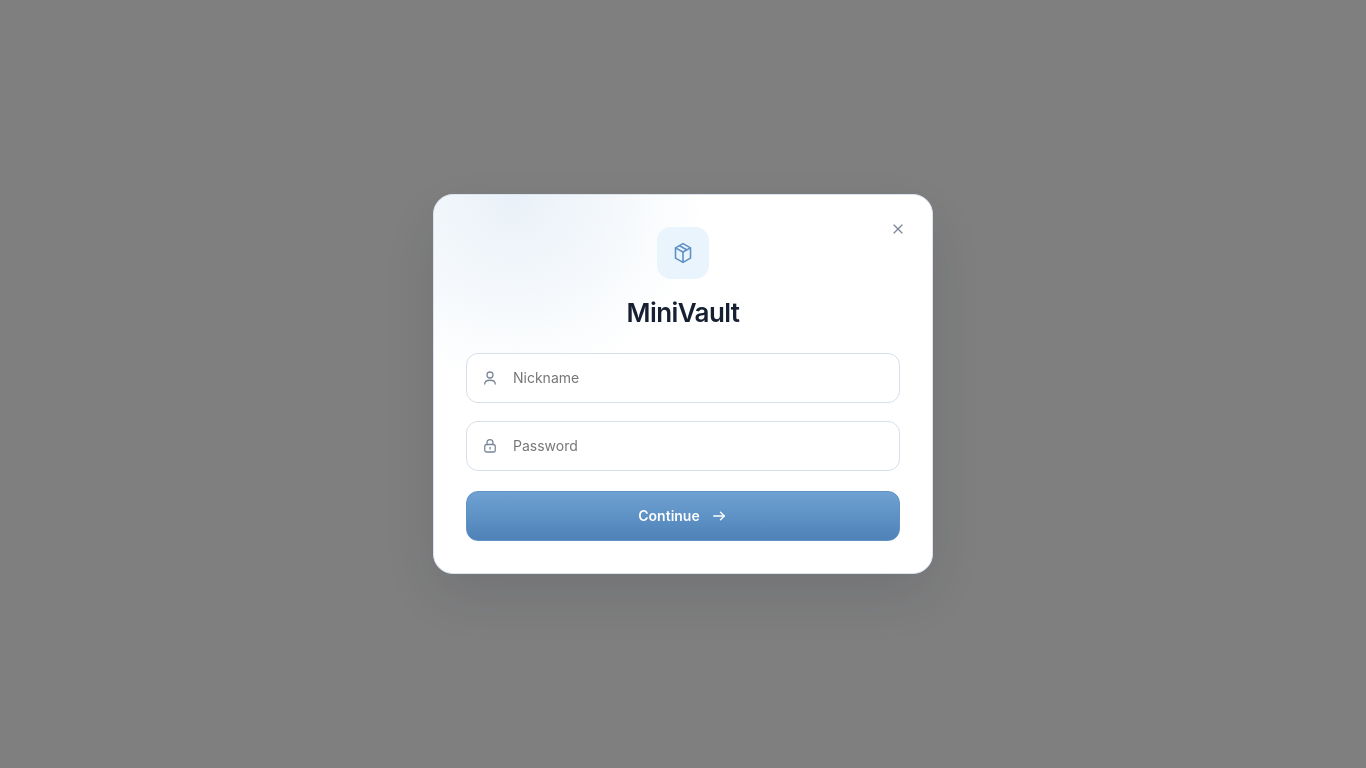
it: LoginModal › shows server error when login fails
This screenshot has width=1366, height=768.
In the field with placeholder "Nickname": (706, 378) 513,354 -> 899,402, type "wayne"
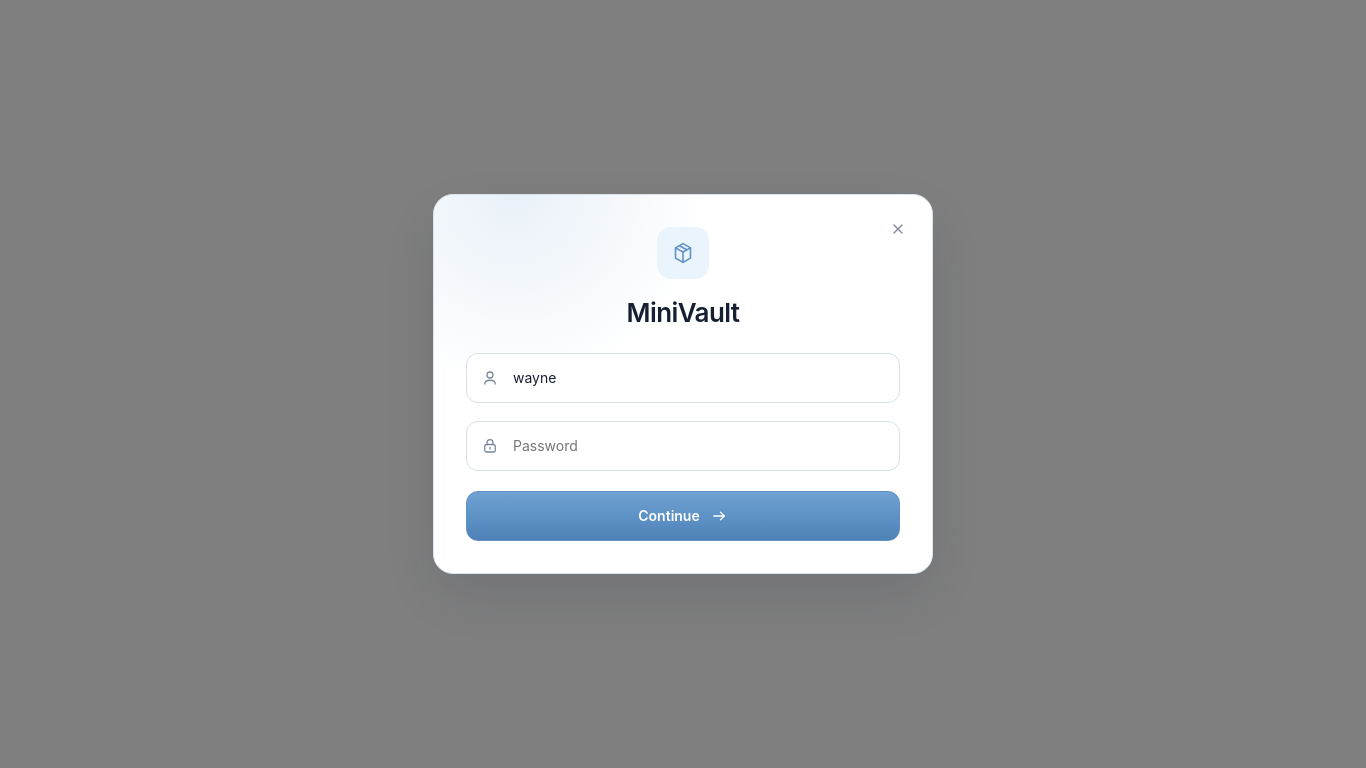
In the password field with placeholder "Password": (706, 446) 513,422 -> 899,470, type "wrong"
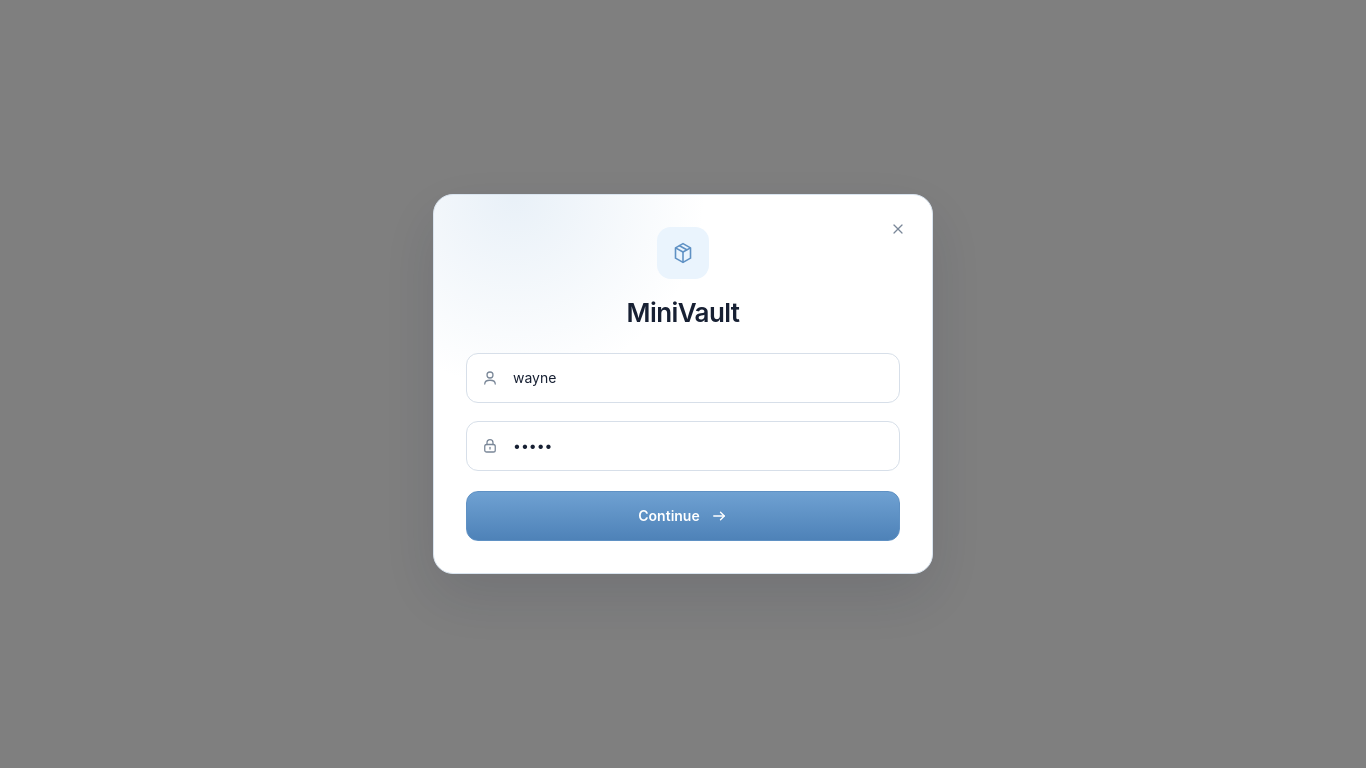
Click the button "Continue": (683, 516) 466,491 -> 900,541
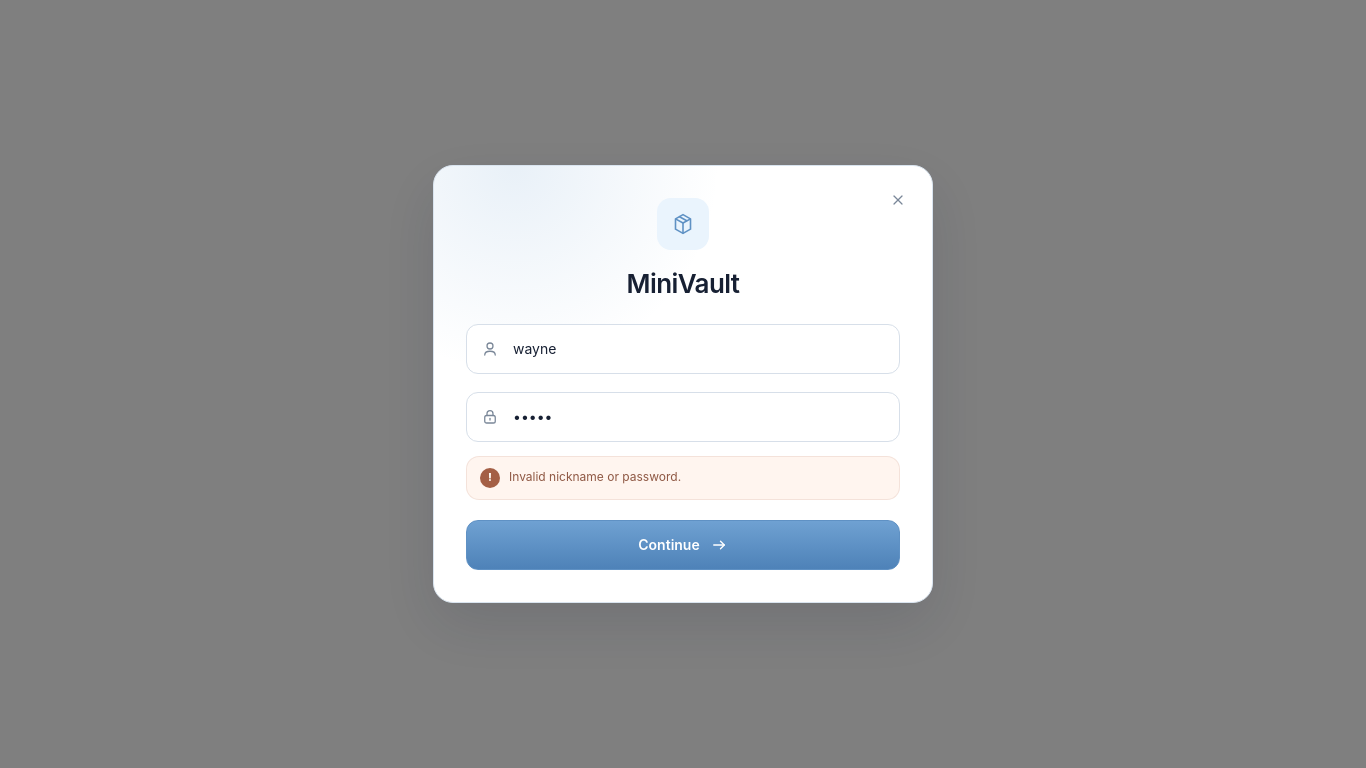
Expected: the message shows "Invalid nickname or password.", 509,469 -> 681,484
